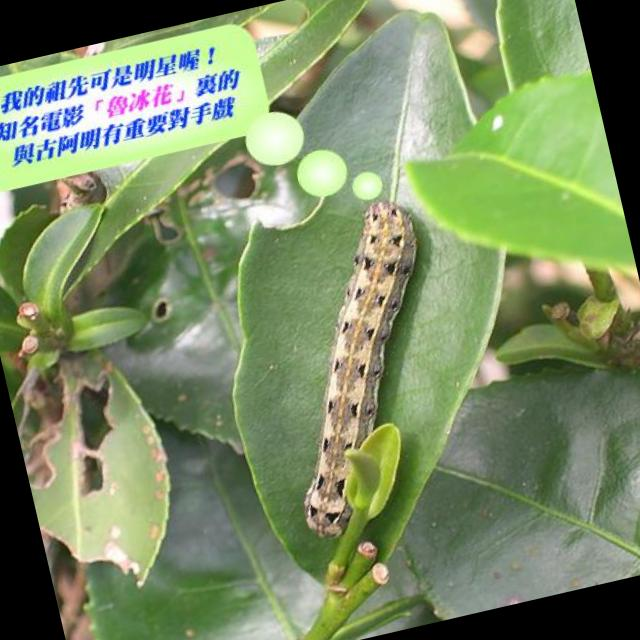armyworm: (226, 167, 488, 559)
